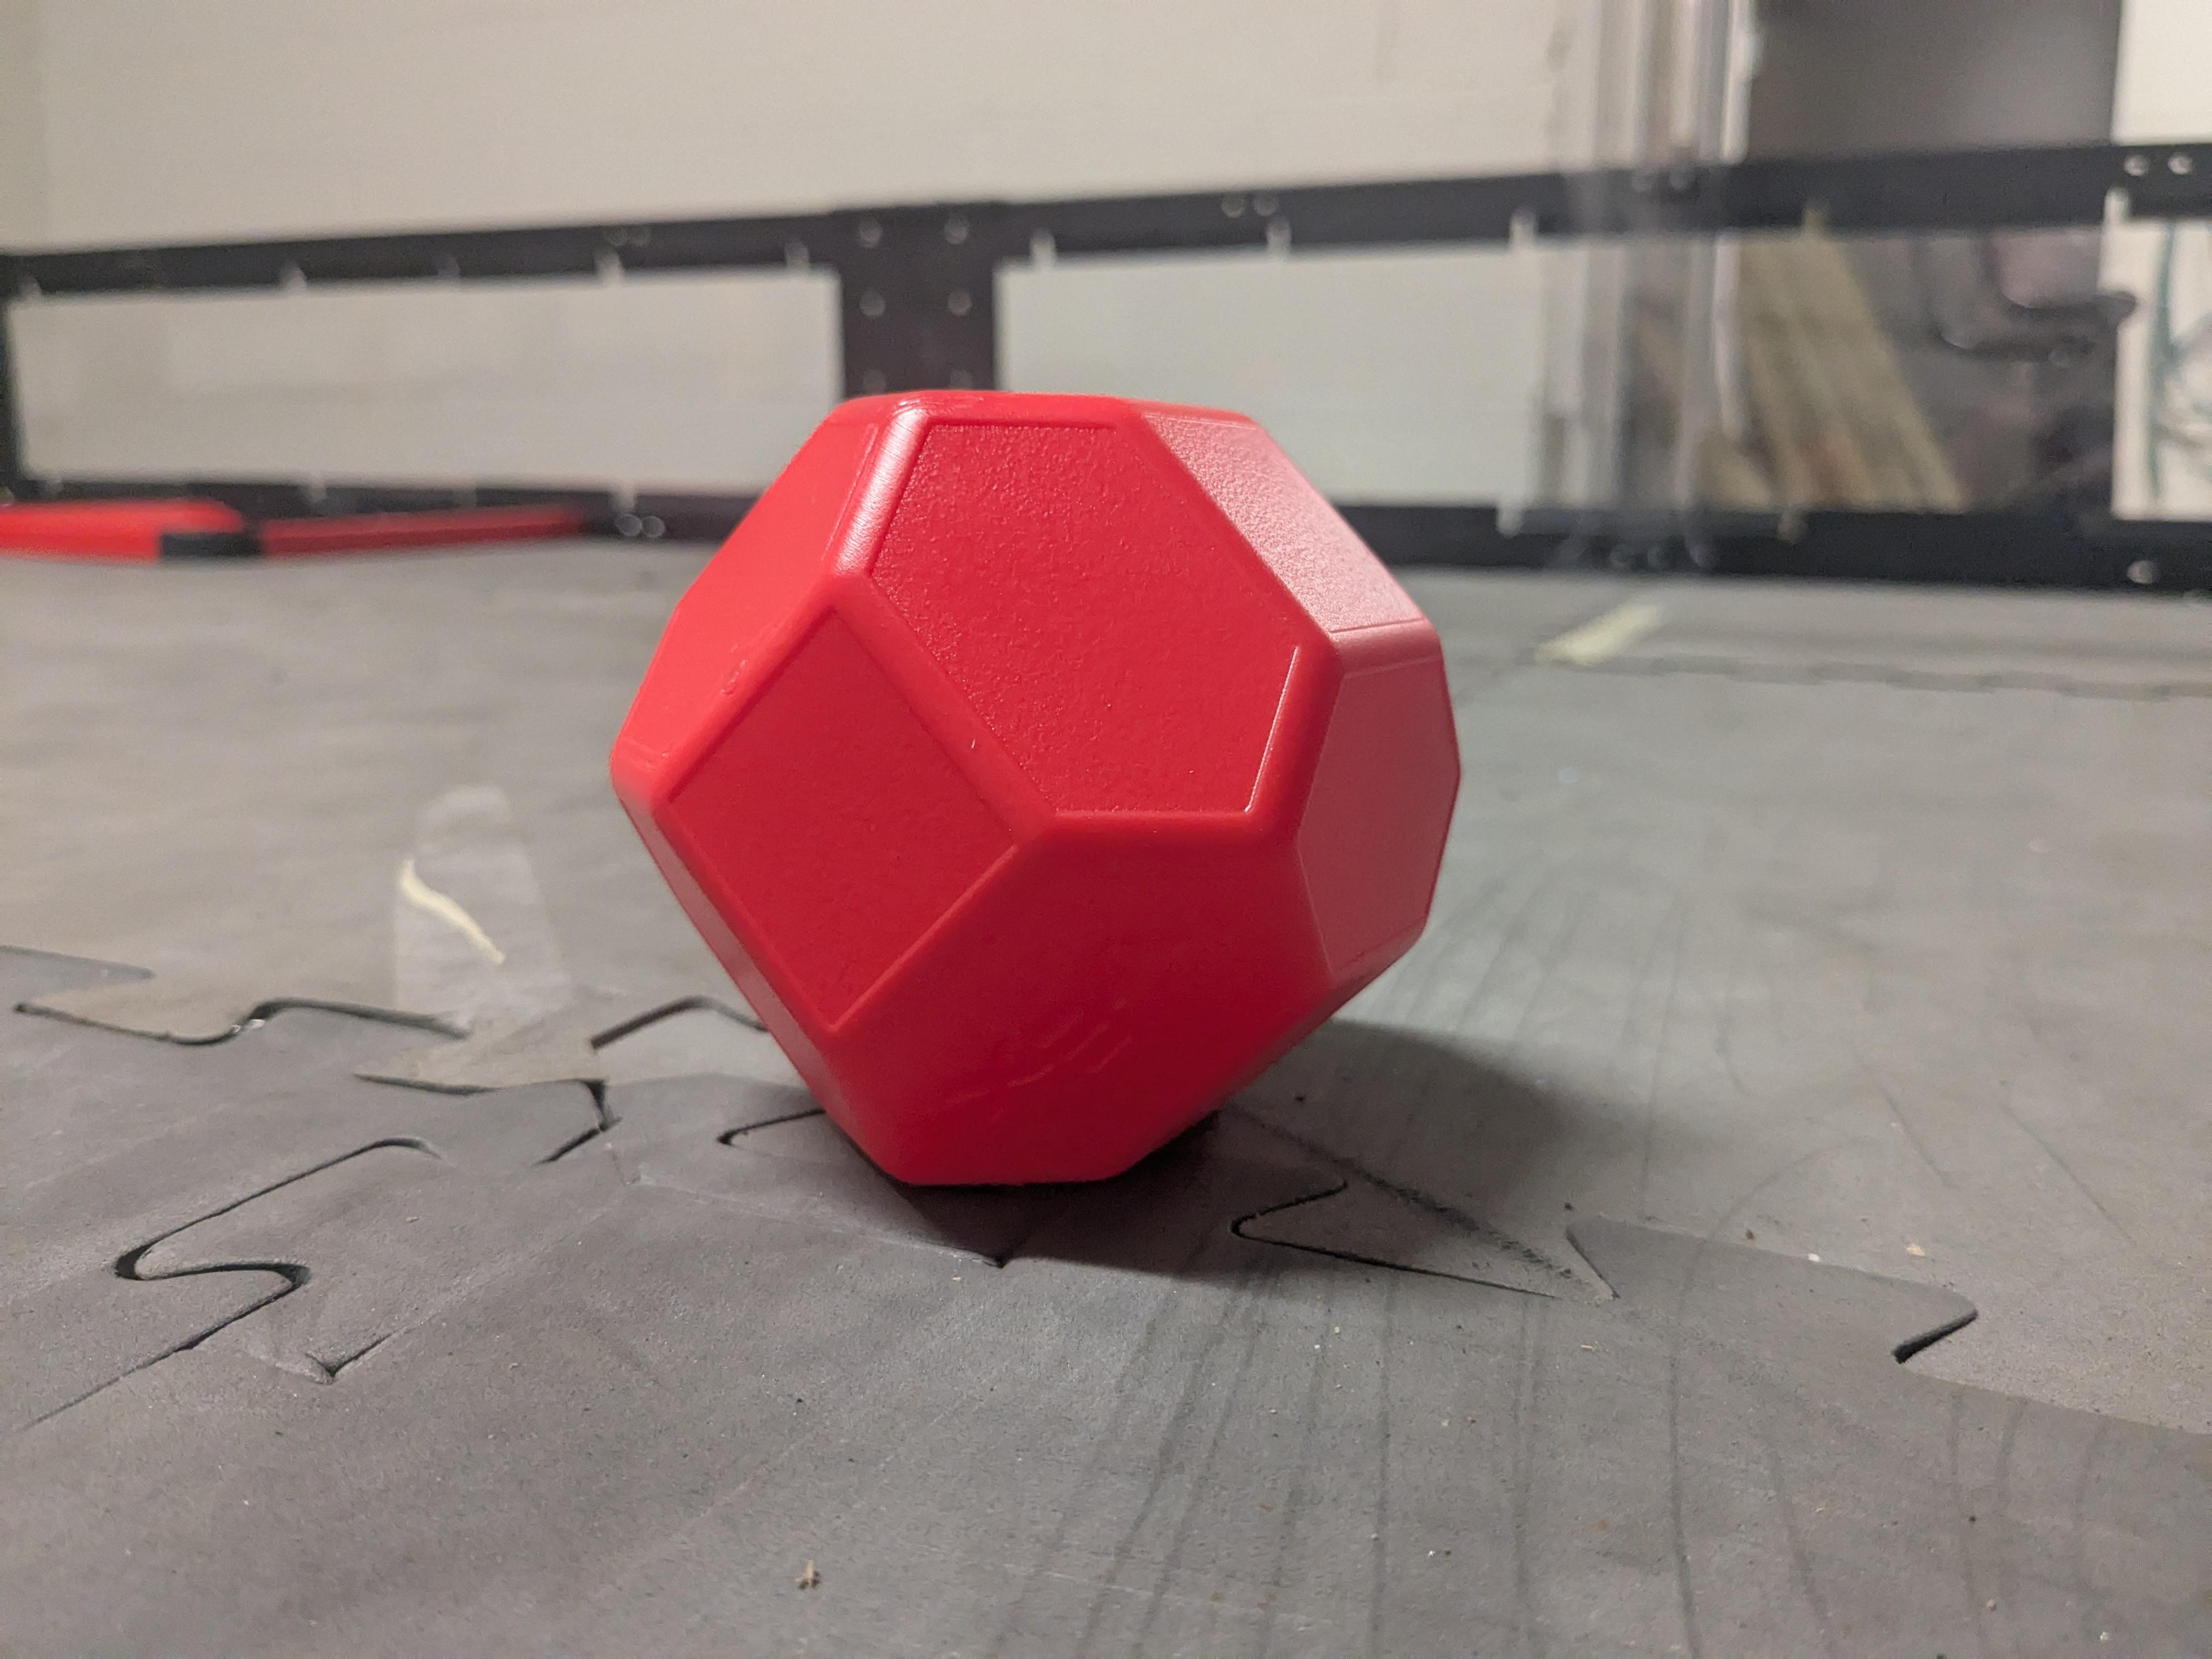Vex-Pieces-RED: (611, 390, 1460, 1185)
